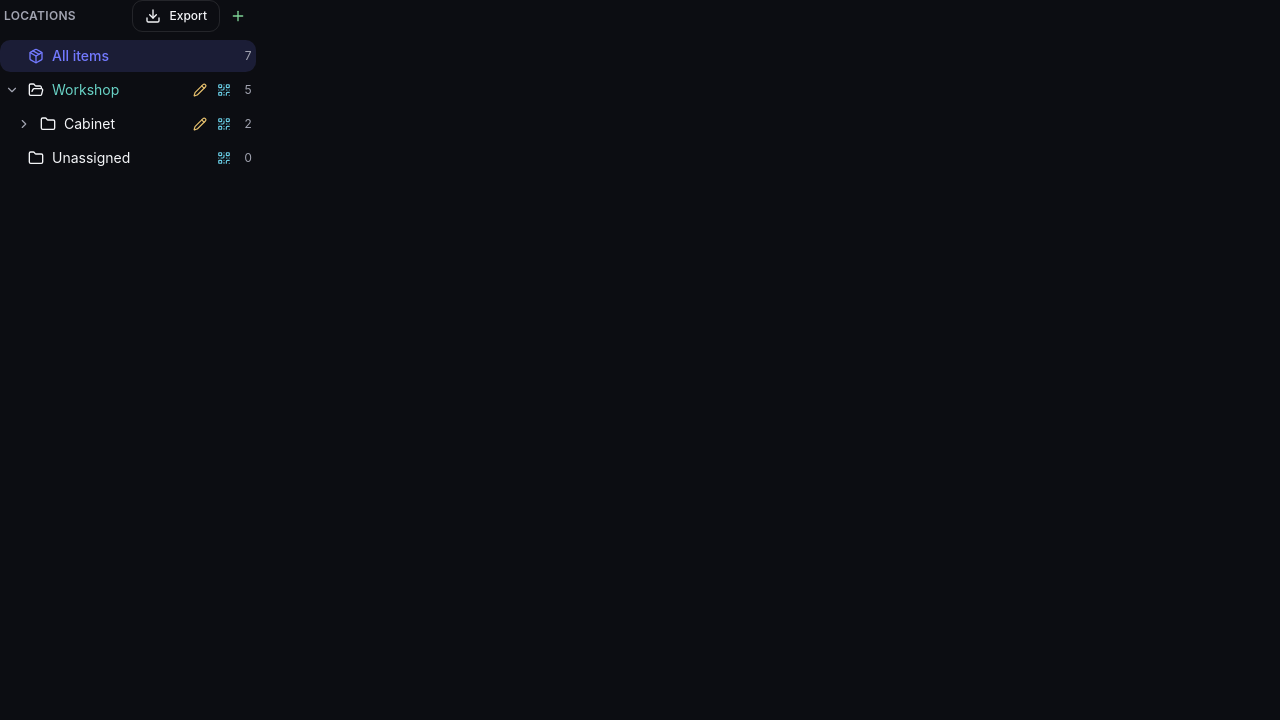
Scenario: LocationSidebar — accessible APG tree › holds the confirm button until the impact read has settled (#823)
Click the button named "Edit Workshop".
click(200, 90)  # box x1=188 y1=78 x2=212 y2=102
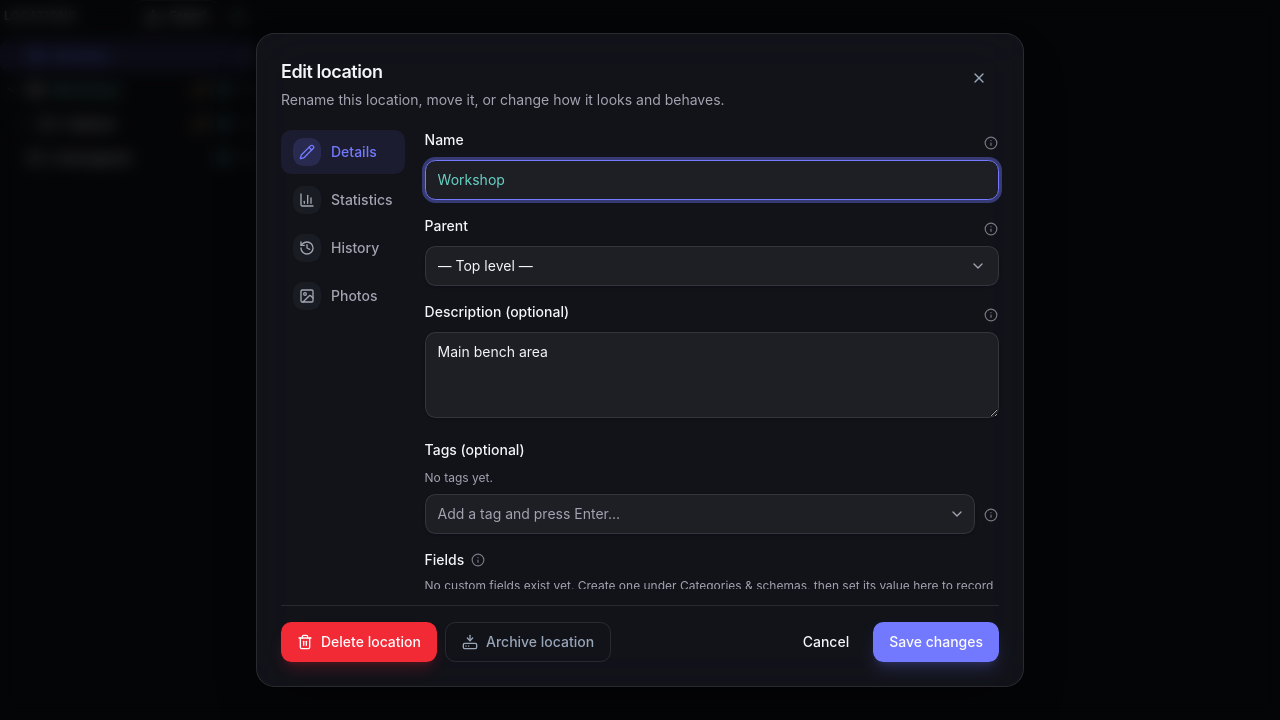
Click the button with test id "edit-location-delete".
click(359, 642)  # box x1=281 y1=622 x2=437 y2=662
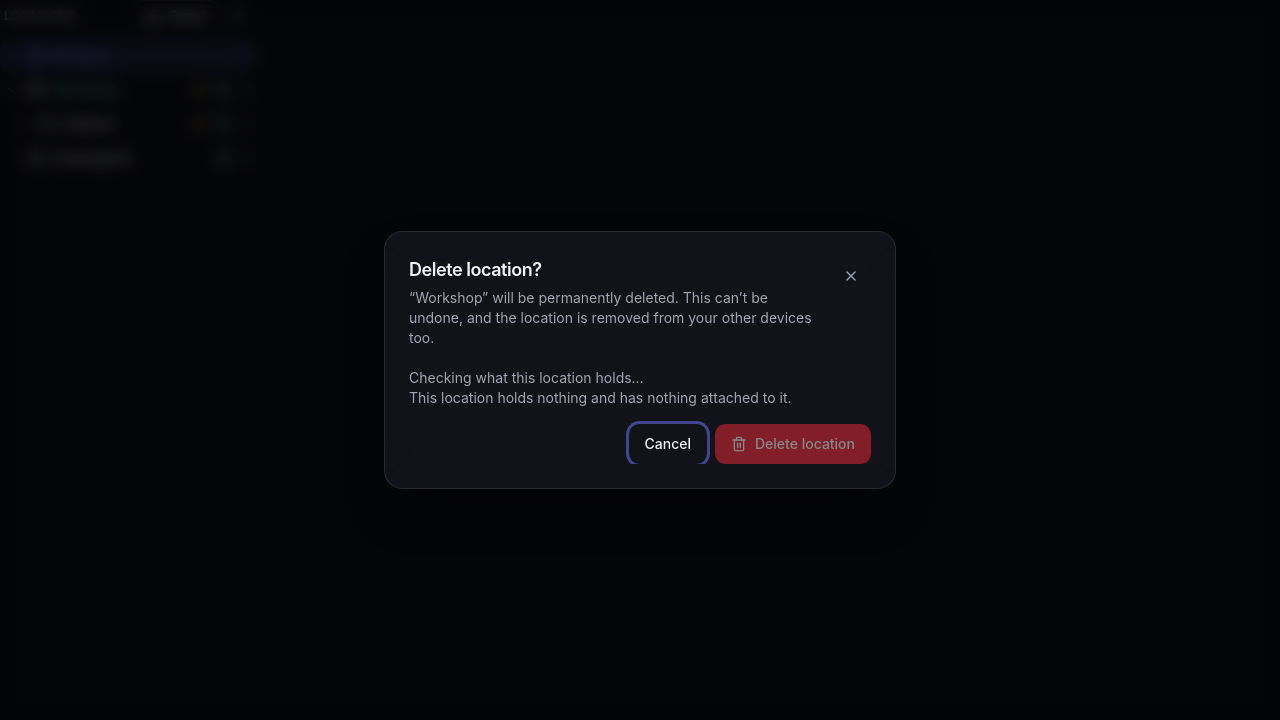
Check: the button with test id "confirm-delete-location" is disabled, box x1=715 y1=424 x2=871 y2=464
Click the button "Cancel".
click(668, 444)  # box x1=628 y1=424 x2=707 y2=464
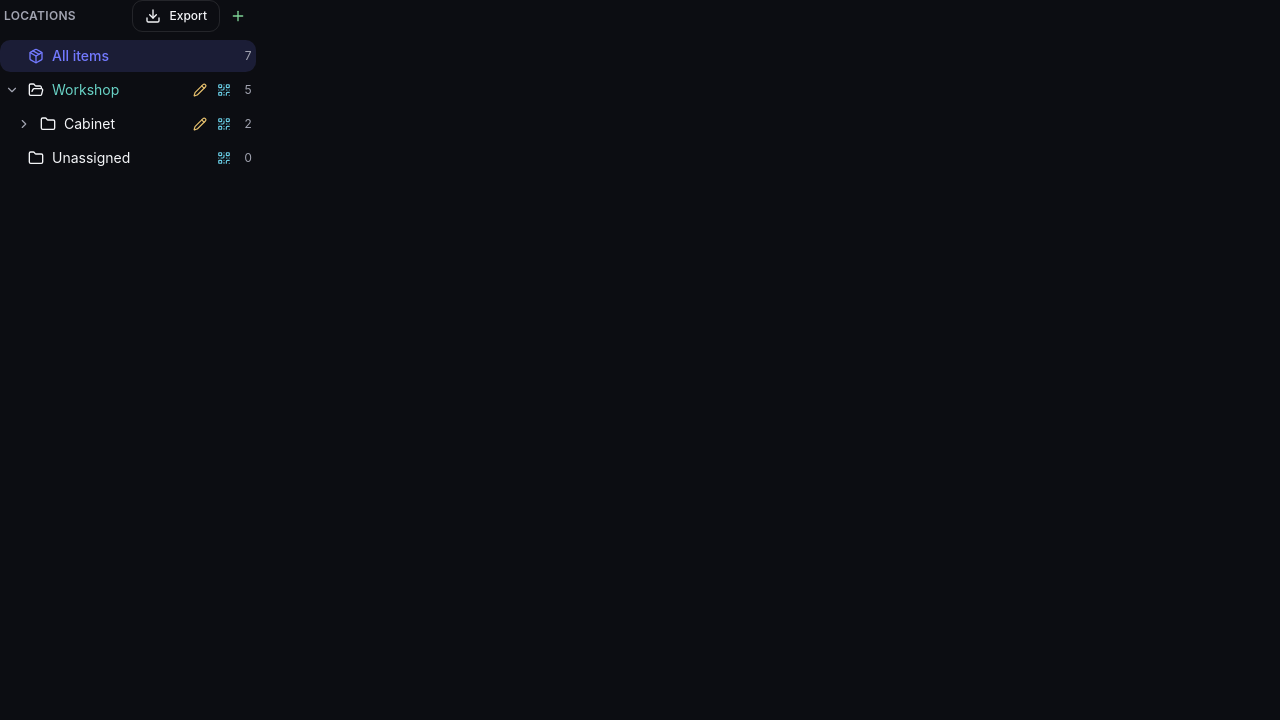
Click the button named "Edit Workshop".
click(200, 90)  # box x1=188 y1=78 x2=212 y2=102
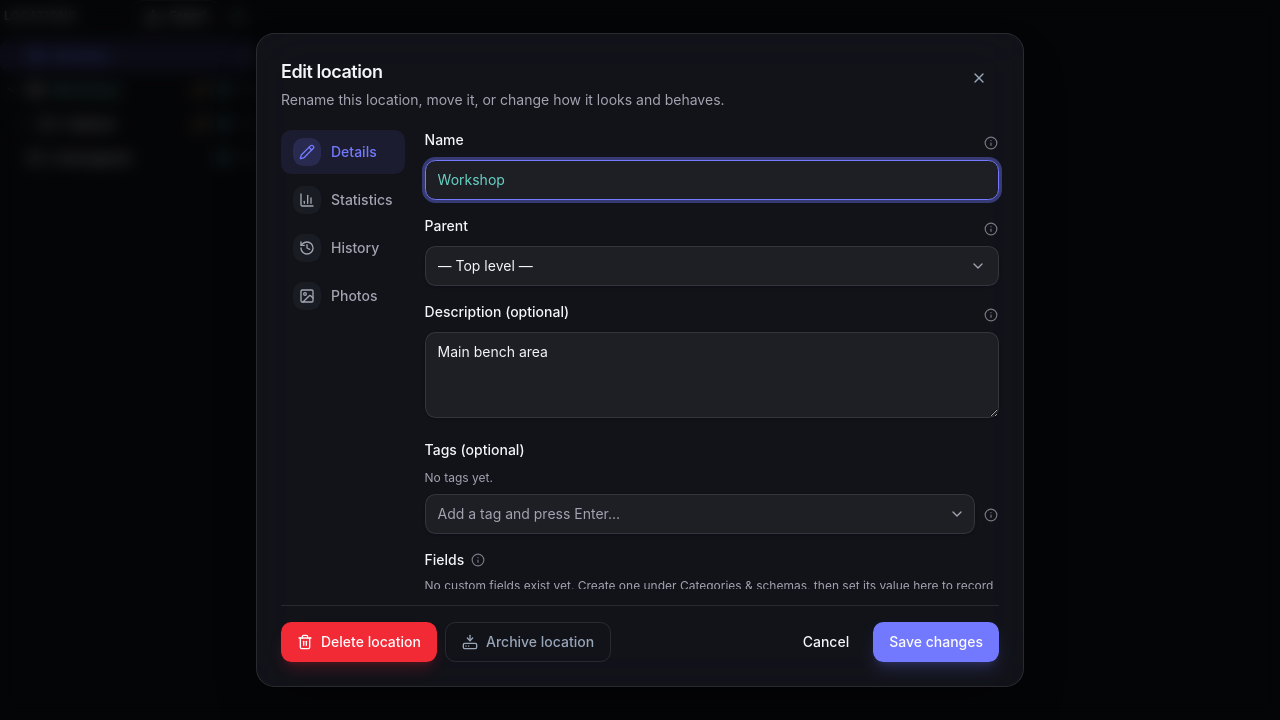
Click the button with test id "edit-location-delete".
click(359, 642)  # box x1=281 y1=622 x2=437 y2=662
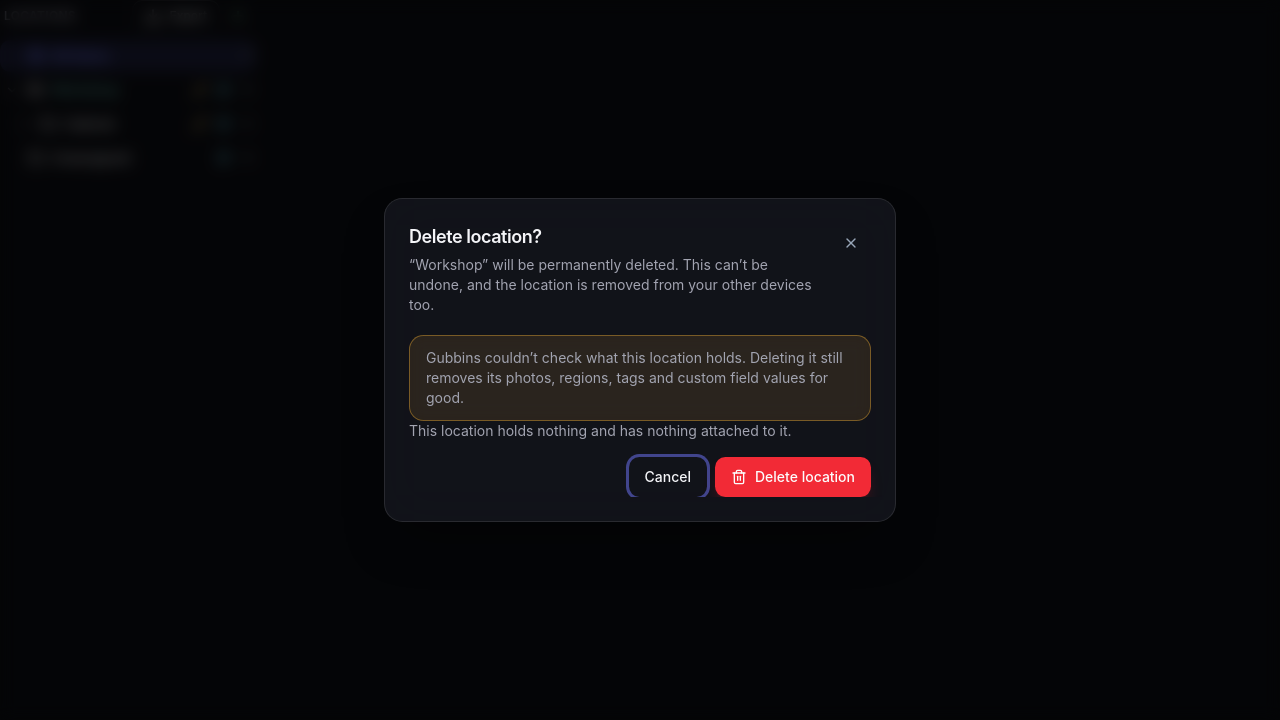
Check: the dialog "Delete location?" shows "check what this location holds", box x1=426 y1=349 x2=843 y2=406
Check: the button with test id "confirm-delete-location" is enabled, box x1=715 y1=457 x2=871 y2=497
